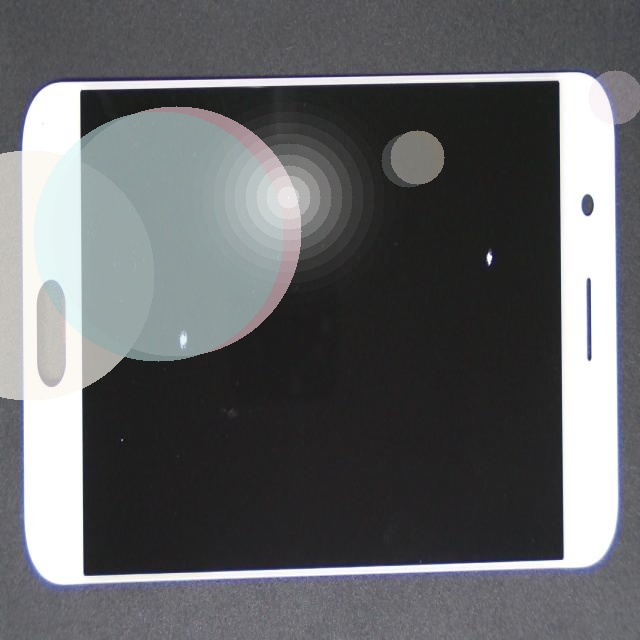stain: (281, 113, 640, 338), (81, 200, 251, 571)
